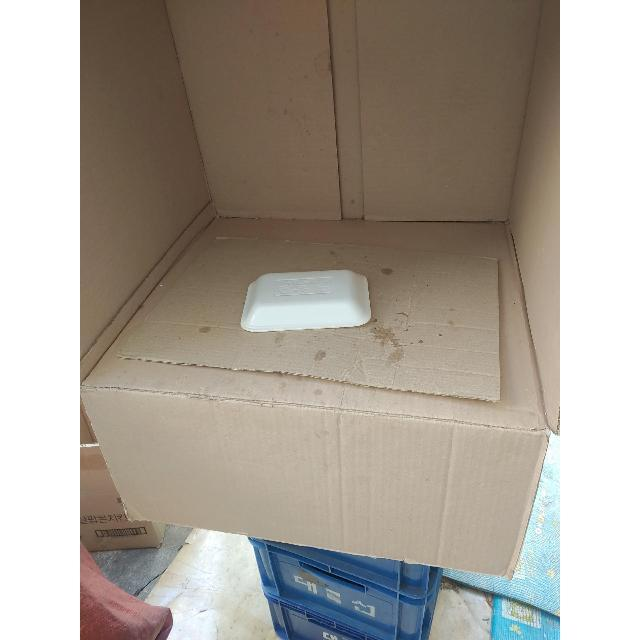Recipiente plastico: (240, 270, 371, 332)
